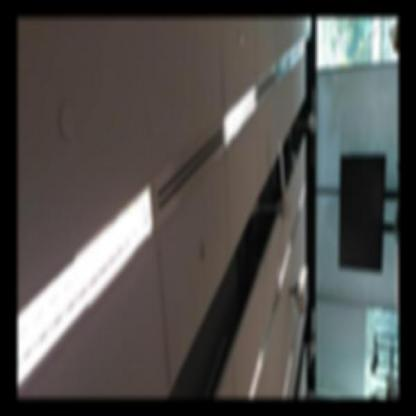light_on: (18, 178, 157, 398), (216, 72, 266, 152), (243, 348, 268, 399), (274, 237, 295, 294), (281, 350, 298, 398), (296, 175, 312, 214)
